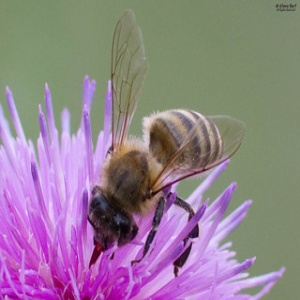bee: (86, 10, 251, 282)
